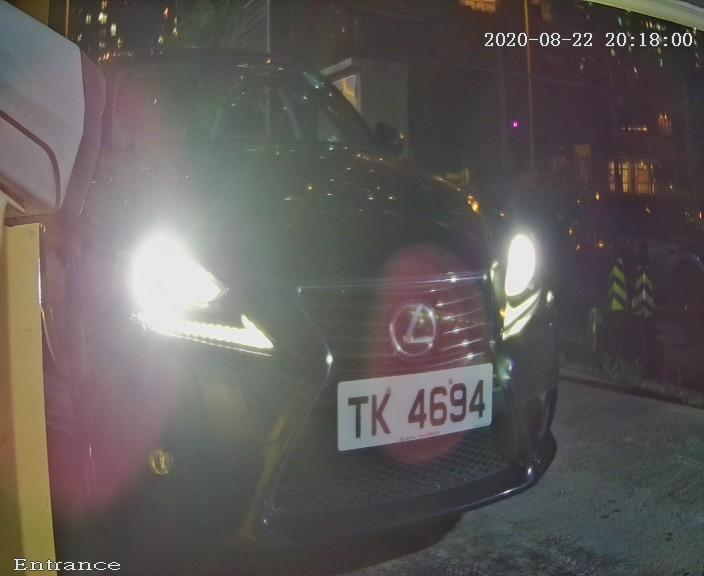Car: (10, 1, 613, 574)
License Plate: (322, 349, 510, 462)
